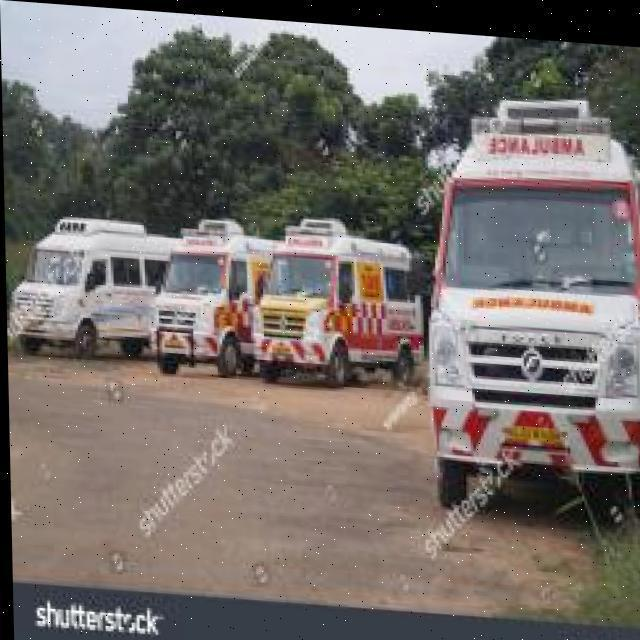Ambulance: (1, 52, 640, 527), (6, 328, 640, 617), (415, 77, 640, 520), (3, 207, 180, 367)
